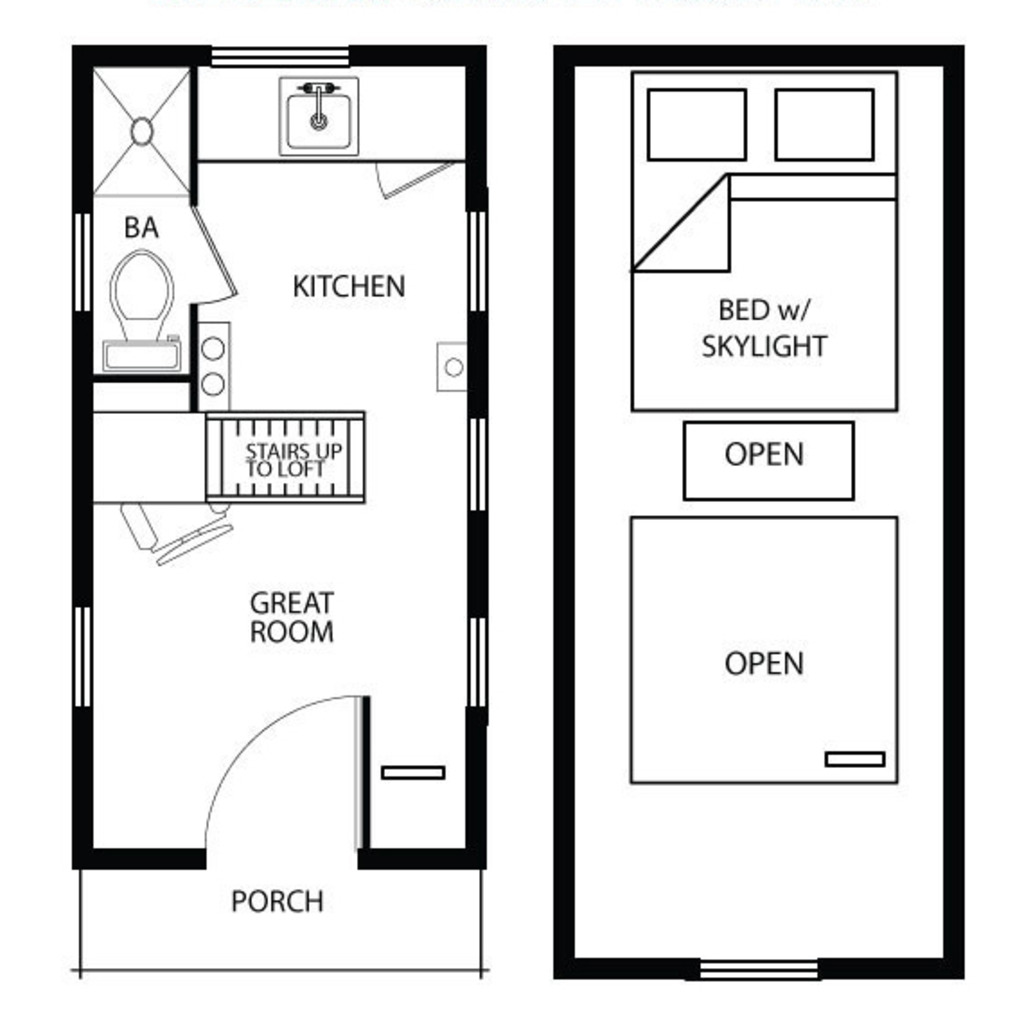bed: (616, 68, 923, 421)
door: (187, 659, 397, 879), (175, 207, 248, 315), (359, 153, 458, 201)
large_sink: (84, 226, 187, 381)
window: (53, 596, 112, 712), (453, 414, 508, 525), (703, 942, 828, 989), (447, 204, 494, 326), (447, 612, 495, 711), (66, 214, 103, 320)
